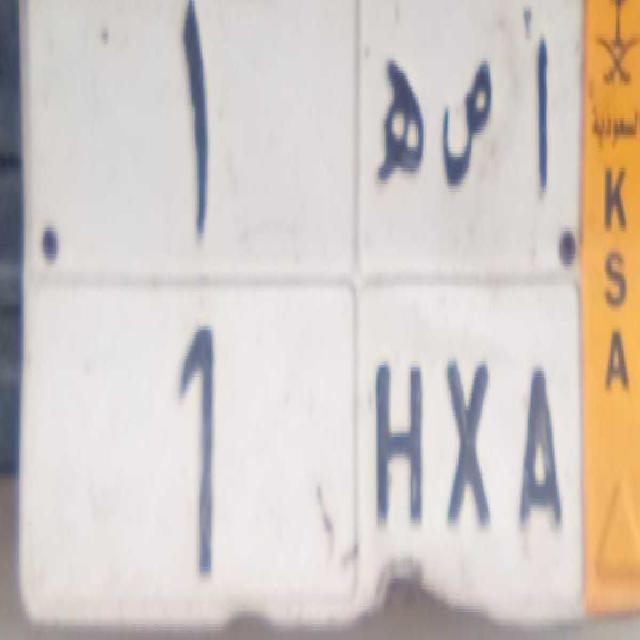license_plate: (19, 274, 586, 628)
